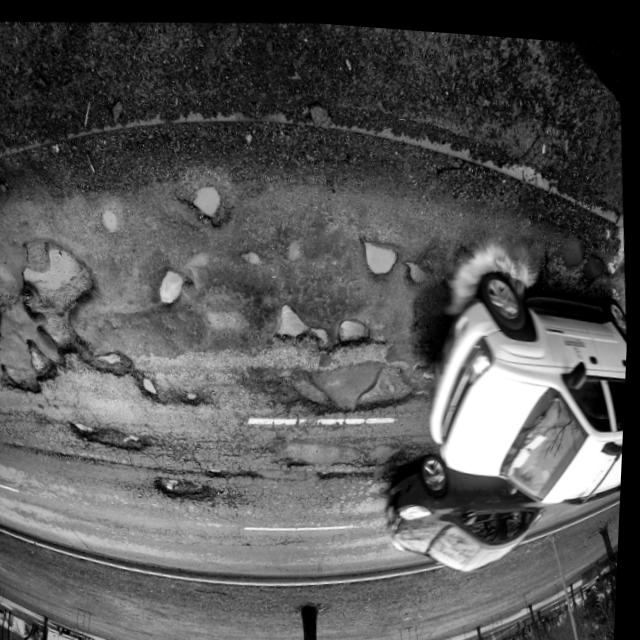pathole: (0, 38, 407, 553), (561, 208, 620, 282), (399, 232, 439, 314)
